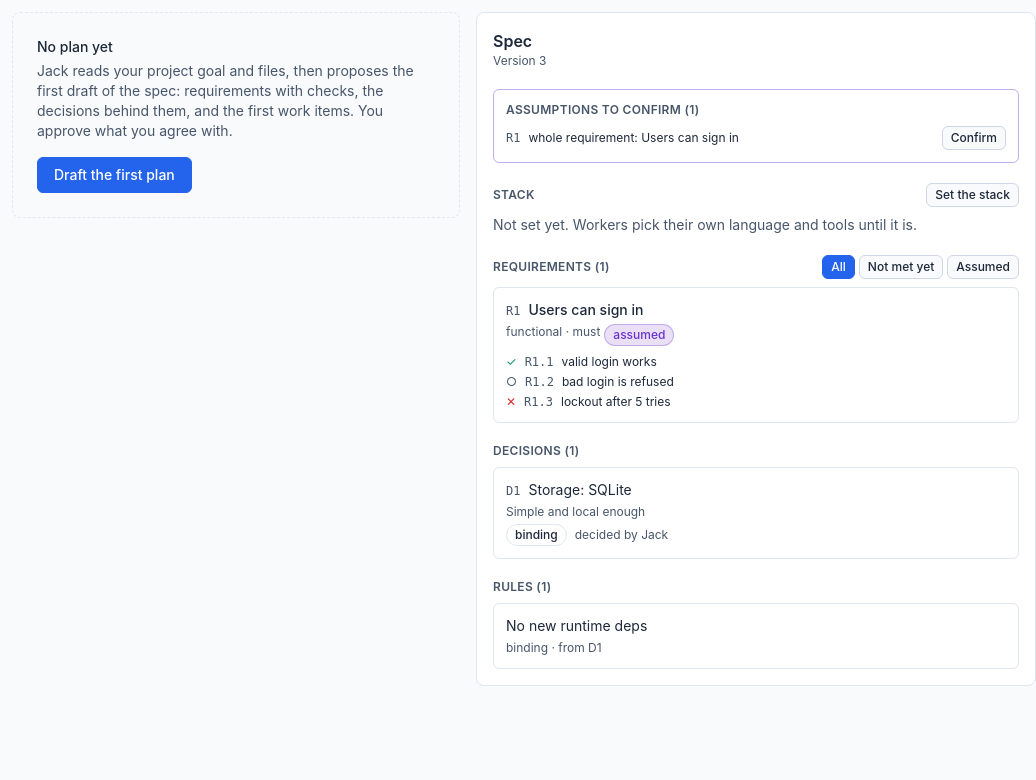
Scenario: PlanTab conversation › shows the empty state and starts the first draft
Click the button "Draft the first plan".
click(114, 175)  # box [37, 157, 192, 193]
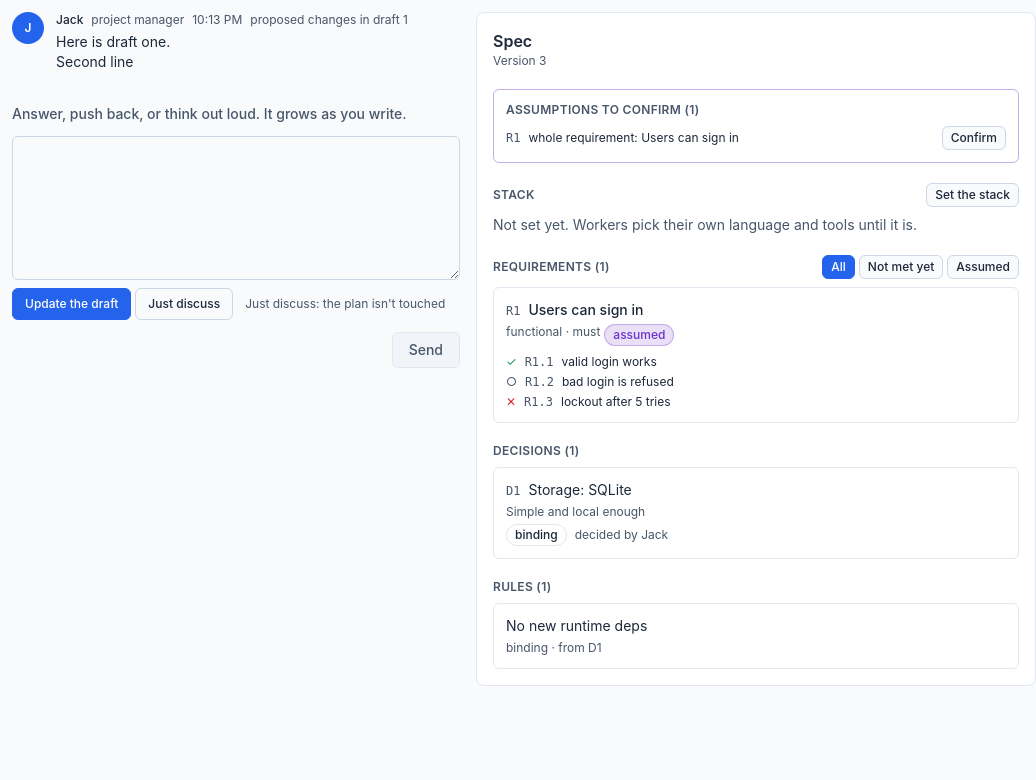
Now the text "Here is draft one.Second line" is shown, box [56, 33, 170, 70]
Now the text "project manager" is shown, box [91, 12, 184, 28]
Now the text "J" is shown, box [12, 12, 44, 44]
